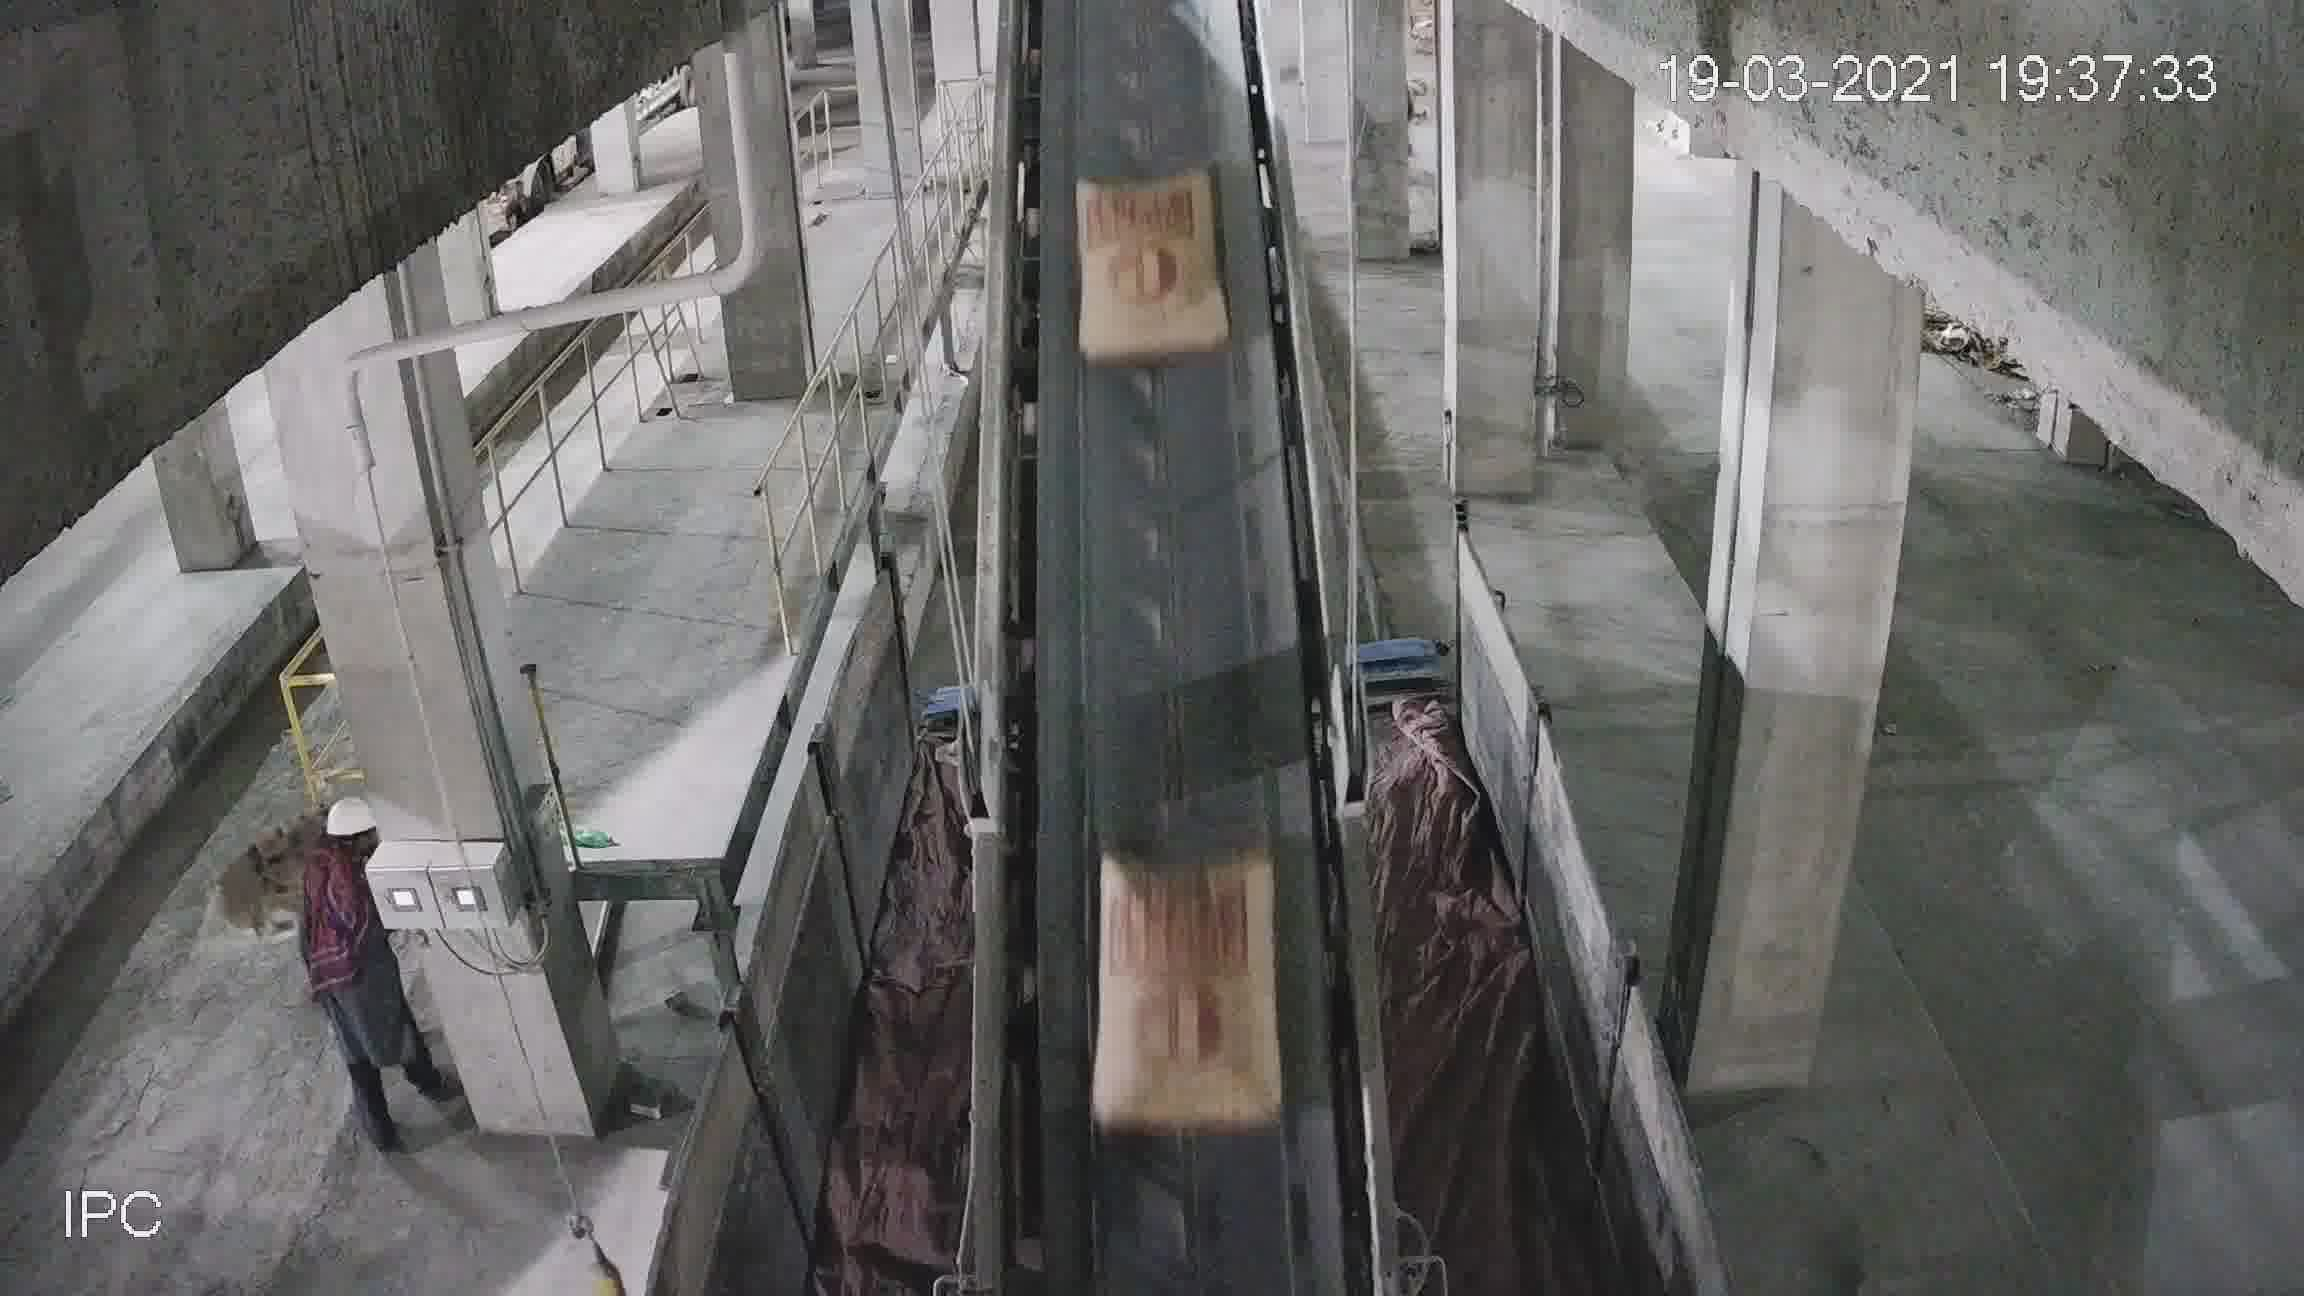bag: (1097, 869, 1282, 1128), (1078, 165, 1220, 353)
belt: (976, 14, 1372, 1165)
